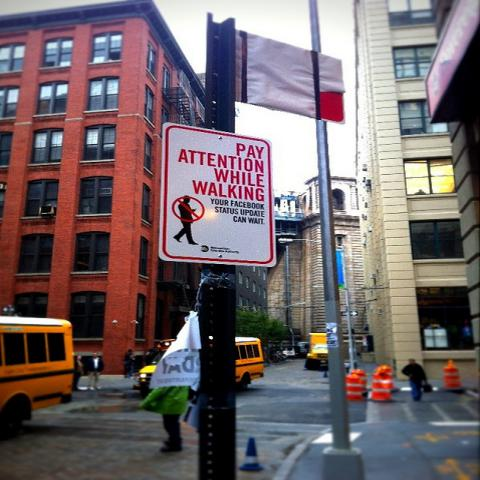bus: (0, 317, 75, 432), (154, 338, 264, 390)
truck: (306, 333, 328, 368), (276, 341, 310, 360)
